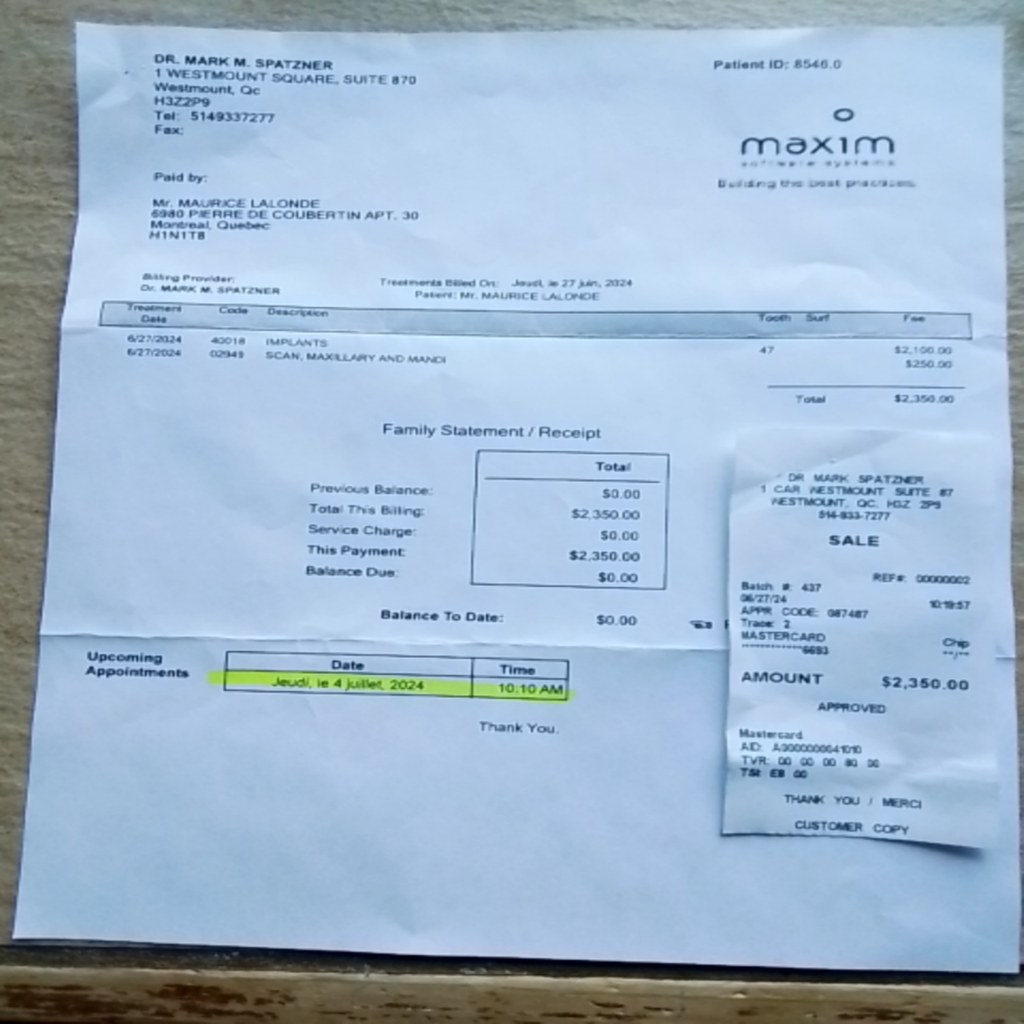recipt: (8, 21, 1014, 972)
